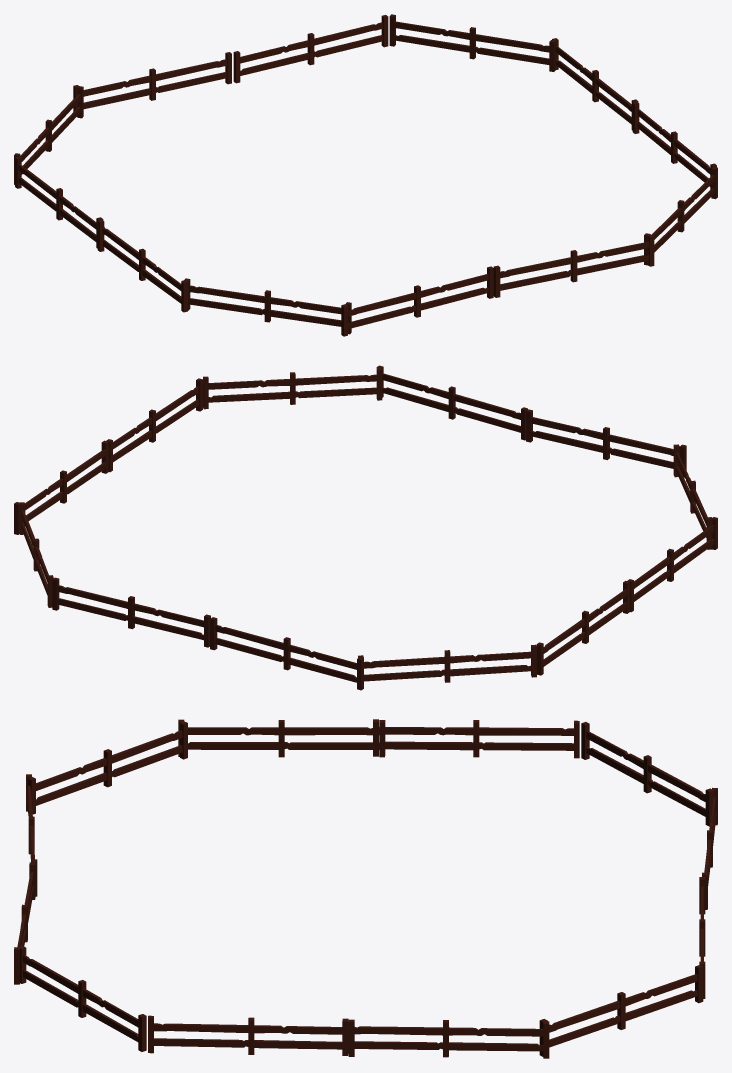
The model's file is pen.fbx.
The picture shows the model from 3 angles, top to bottom: view 1: azimuth 30°, elevation 25°; view 2: azimuth 150°, elevation 25°; view 3: azimuth 270°, elevation 25°; orthographic projection. The views are drawn at different scales.
Parts seen in each view (by area): view 1: Fence_Cube_059, Fence_Cube_062, Fence_Cube_058, Fence_Cube_069, Fence_Cube_064, Fence_Cube_067, Fence_Cube_068, Fence_Cube_065, Fence_Cube_060, Fence_Cube_061, Fence_Cube_063, Fence_Cube_066; view 2: Fence_Cube_061, Fence_Cube_066, Fence_Cube_058, Fence_Cube_067, Fence_Cube_069, Fence_Cube_062, Fence_Cube_068, Fence_Cube_063, Fence_Cube_060, Fence_Cube_065, Fence_Cube_064, Fence_Cube_059; view 3: Fence_Cube_063, Fence_Cube_060, Fence_Cube_068, Fence_Cube_065, Fence_Cube_064, Fence_Cube_059, Fence_Cube_066, Fence_Cube_061, Fence_Cube_062, Fence_Cube_067, Fence_Cube_058, Fence_Cube_069.
Boxes of the visible parts, x1,y1,x2,y2 form: Fence_Cube_059: (389, 14, 555, 71); Fence_Cube_062: (493, 234, 654, 297); Fence_Cube_058: (233, 15, 388, 83); Fence_Cube_069: (341, 266, 493, 336); Fence_Cube_064: (184, 278, 351, 334); Fence_Cube_067: (73, 52, 231, 116); Fence_Cube_068: (15, 156, 104, 251); Fence_Cube_065: (96, 217, 187, 312); Fence_Cube_060: (552, 38, 639, 133); Fence_Cube_061: (644, 167, 717, 265); Fence_Cube_063: (631, 99, 716, 189); Fence_Cube_066: (14, 86, 83, 184); Fence_Cube_061: (203, 368, 382, 409); Fence_Cube_066: (358, 644, 536, 682); Fence_Cube_058: (52, 577, 210, 647); Fence_Cube_067: (210, 617, 363, 690); Fence_Cube_069: (526, 409, 686, 477); Fence_Cube_062: (376, 365, 527, 440); Fence_Cube_068: (536, 579, 633, 675); Fence_Cube_063: (101, 378, 202, 473); Fence_Cube_060: (14, 439, 112, 534); Fence_Cube_065: (623, 517, 717, 613); Fence_Cube_064: (673, 444, 712, 549); Fence_Cube_059: (19, 502, 53, 607); Fence_Cube_063: (148, 1015, 354, 1056); Fence_Cube_060: (342, 1018, 549, 1058); Fence_Cube_068: (373, 719, 579, 758); Fence_Cube_065: (178, 719, 385, 757); Fence_Cube_064: (28, 721, 187, 814); Fence_Cube_059: (539, 965, 703, 1056); Fence_Cube_066: (581, 722, 713, 826); Fence_Cube_061: (18, 946, 146, 1051); Fence_Cube_062: (14, 862, 35, 984); Fence_Cube_067: (702, 787, 717, 909); Fence_Cube_058: (699, 877, 705, 998); Fence_Cube_069: (26, 774, 37, 896).
Size of the model in its own units: 20.53 by 1.1 by 20.05.
